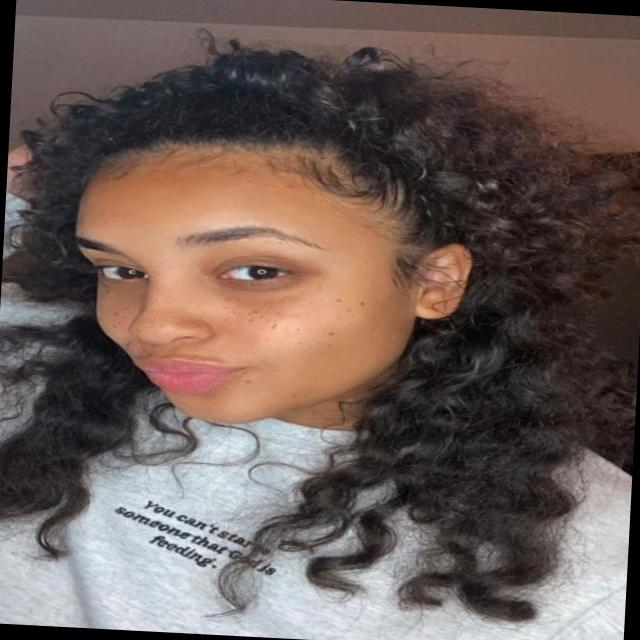freckle: (93, 283, 396, 353)
